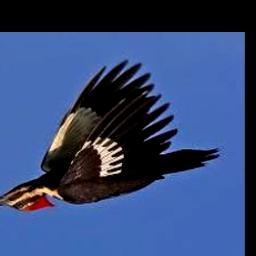Woodpecker: (0, 61, 221, 213)
